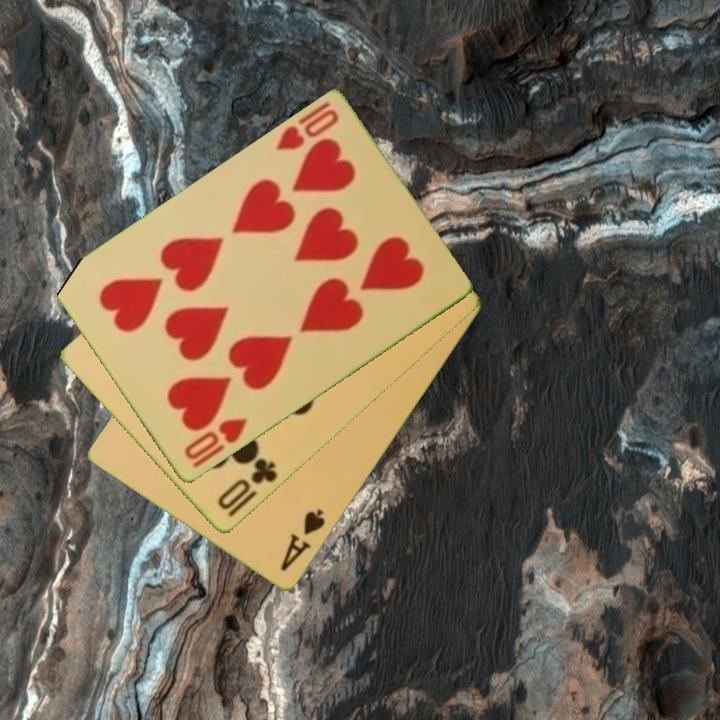10c: (214, 455, 281, 513)
10h: (271, 98, 342, 155), (180, 415, 251, 464)
As: (276, 506, 329, 575)
